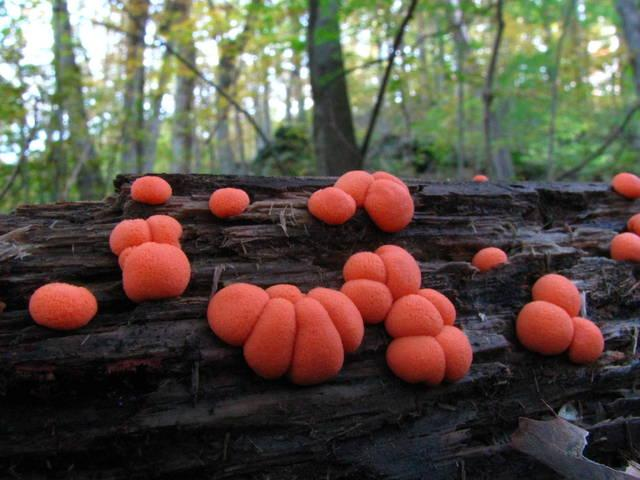Non-edible Mushroom: (25, 167, 622, 388), (120, 240, 191, 301), (206, 281, 269, 345), (27, 280, 98, 330), (514, 299, 573, 355), (385, 334, 446, 385), (363, 177, 414, 232), (306, 185, 356, 224), (567, 316, 604, 363), (207, 186, 250, 218), (129, 174, 172, 204)
